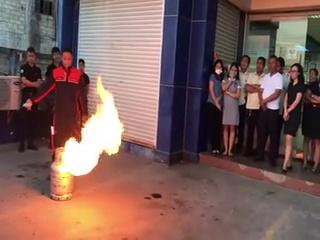Fire: (61, 78, 133, 178)
